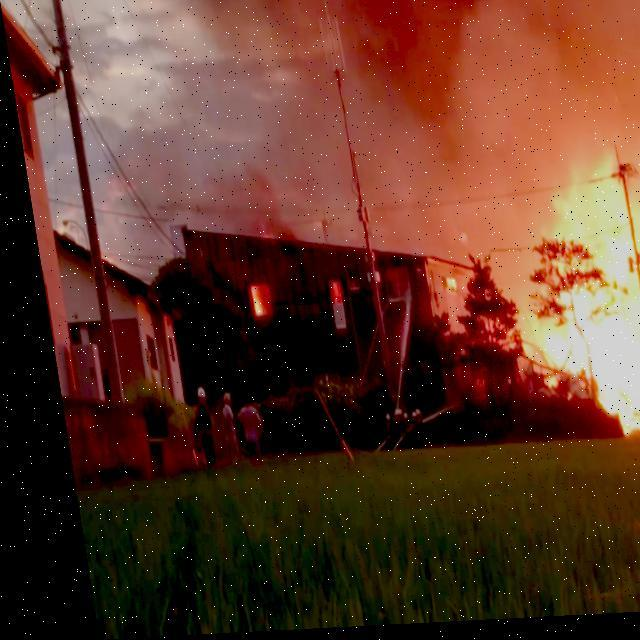Fire: (487, 173, 639, 439), (238, 284, 266, 320), (434, 278, 448, 296)
